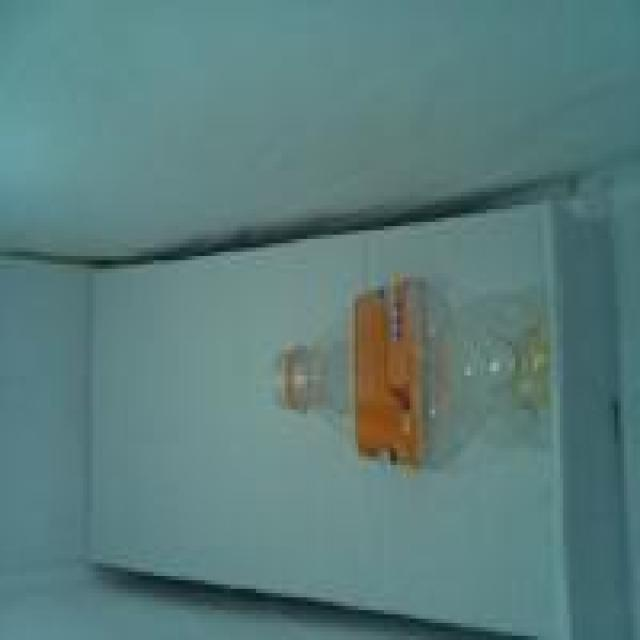bottle: (272, 270, 551, 472)
